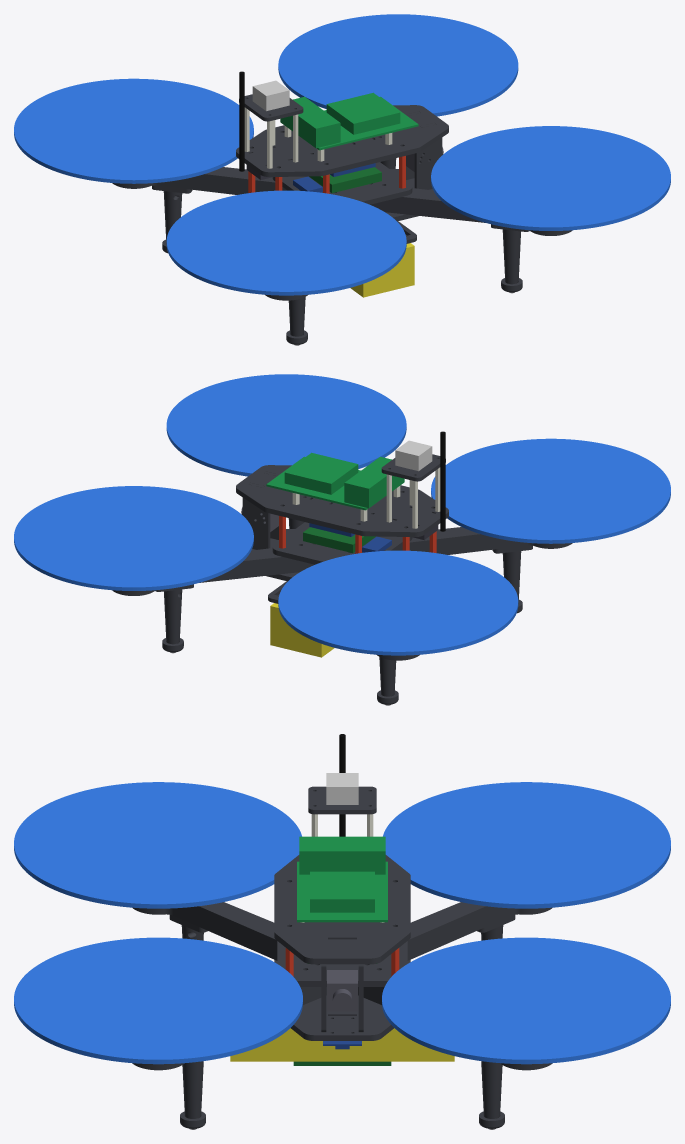
The model's file is drone_full.glb.
The picture shows the model from 3 angles, top to bottom: view 1: azimuth 30°, elevation 25°; view 2: azimuth 150°, elevation 25°; view 3: azimuth 270°, elevation 25°; orthographic projection. The views are drawn at different scales.
Visible parts, largest first — view 1: REF_prop_3, REF_prop_4, REF_prop_2, REF_prop_1, top_plate, REF_rpi, arm_2, arm_4, mid_plate, REF_battery, landing_leg_4, camera_plate_R (+6 smaller); view 2: REF_prop_2, REF_prop_1, REF_prop_3, REF_prop_4, top_plate, REF_rpi, arm_3, arm_1, mid_plate, REF_battery, landing_leg_1, camera_plate_L (+6 smaller); view 3: REF_prop_1, REF_prop_4, REF_prop_2, REF_prop_3, REF_rpi, top_plate, REF_battery, arm_2, arm_3, bottom_plate, mid_plate, gps_plate (+4 smaller).
Part boxes in pixels (x1,y1,x2,y2): REF_prop_3: [166, 190, 406, 295]; REF_prop_4: [431, 126, 670, 230]; REF_prop_2: [14, 78, 253, 183]; REF_prop_1: [278, 14, 518, 116]; top_plate: [236, 105, 448, 176]; REF_rpi: [280, 92, 418, 150]; arm_2: [112, 167, 286, 194]; arm_4: [370, 188, 572, 235]; mid_plate: [272, 162, 412, 204]; REF_battery: [350, 243, 414, 297]; landing_leg_4: [491, 224, 529, 284]; camera_plate_R: [414, 123, 442, 189]; REF_prop_2: [278, 550, 518, 655]; REF_prop_1: [14, 486, 253, 590]; REF_prop_3: [431, 438, 670, 543]; REF_prop_4: [166, 374, 406, 476]; top_plate: [236, 465, 448, 536]; REF_rpi: [266, 452, 404, 510]; arm_3: [398, 527, 572, 554]; arm_1: [112, 548, 314, 595]; mid_plate: [272, 522, 412, 564]; REF_battery: [270, 603, 334, 657]; landing_leg_1: [155, 584, 193, 644]; camera_plate_L: [242, 483, 270, 549]; REF_prop_1: [382, 937, 670, 1064]; REF_prop_4: [14, 937, 302, 1064]; REF_prop_2: [383, 782, 670, 908]; REF_prop_3: [14, 782, 301, 908]; REF_rpi: [297, 836, 387, 922]; top_plate: [274, 855, 410, 964]; REF_battery: [230, 1028, 454, 1061]; arm_2: [407, 902, 552, 960]; arm_3: [132, 902, 277, 960]; bottom_plate: [274, 960, 410, 1040]; mid_plate: [277, 941, 407, 986]; gps_plate: [308, 786, 376, 814].
Size of the model in its own units: 404 by 184 by 404.
